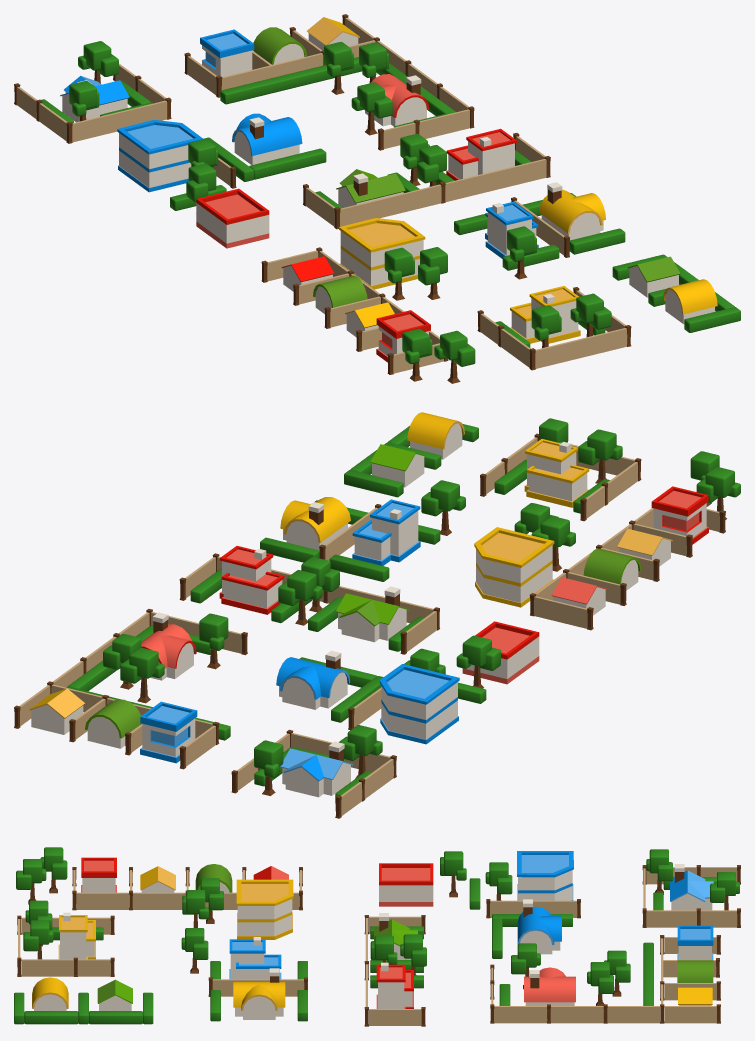
The model's file is Dashboard_Map__Deployment.fbx.
3 views of the same model, one above another, from view 1: azimuth 30°, elevation 25°; view 2: azimuth 150°, elevation 25°; view 3: azimuth 270°, elevation 25° (orthographic). The views are drawn at different scales.
Parts seen in each view (by area): view 1: Map-Shop-Lv2-B.001, Map-Shop-Lv2-Y.001, Map-Shop-Lv1.001, Map-House-R-Lv2.002, Map-House-R-Lv2.004, Map-House-S-Lv2-R.001, Map-House-S-Lv2-Y.001, Fence.010, Map-House-S-Lv1-B.001, Map-House-R-Lv2-R.001, Fence-grass.003, Map-House-T-Lv2-G.001 (+50 smaller); view 2: Map-Shop-Lv2-B.001, Map-Shop-Lv2-Y.001, Map-House-S-Lv2-Y.001, Map-House-S-Lv2-R.001, Map-House-S-Lv2-B.001, Map-House-R-Lv2.002, Map-House-T-Lv2-B.001, Map-House-T-Lv2-G.001, Map-House-R-Lv2.004, Map-House-S-Lv1-B.001, Map-Shop-Lv1.001, Map-House-S-Lv1-R.001 (+36 smaller); view 3: Map-Shop-Lv2-Y.001, Map-Shop-Lv2-B.001, Map-Shop-Lv1.001, Map-House-R-Lv2.004, Map-House-S-Lv2-B.001, Map-House-R-Lv2.002, Map-House-R-Lv2-R.001, Map-House-S-Lv2-R.001, Map-House-S-Lv2-Y.001, Map-House-T-Lv2-B.001, Map-House-S-Lv1-R.001, Map-House-S-Lv1-B.001 (+56 smaller).
Part boxes in pixels (x1,y1,x2,y2): Map-Shop-Lv2-B.001: (117,120,202,192); Map-Shop-Lv2-Y.001: (339,218,425,289); Map-Shop-Lv1.001: (196,188,269,248); Map-House-R-Lv2.002: (232,113,302,164); Map-House-R-Lv2.004: (539,182,605,240); Map-House-S-Lv2-R.001: (446,128,516,180); Map-House-S-Lv2-Y.001: (510,286,580,343); Fence.010: (66,97,171,143); Map-House-S-Lv1-B.001: (200,29,254,76); Map-House-R-Lv2-R.001: (365,74,429,126); Fence-grass.003: (220,57,362,104); Map-House-T-Lv2-G.001: (336,169,405,207); Map-Shop-Lv2-B.001: (379,664,459,744); Map-Shop-Lv2-Y.001: (474,527,554,607); Map-House-S-Lv2-Y.001: (524,439,589,507); Map-House-S-Lv2-R.001: (219,546,284,614); Map-House-S-Lv2-B.001: (352,499,420,565); Map-House-R-Lv2.002: (276,650,350,709); Map-House-T-Lv2-B.001: (280,741,353,797); Map-House-T-Lv2-G.001: (335,586,408,642); Map-House-R-Lv2.004: (280,497,350,550); Map-House-S-Lv1-B.001: (140,701,197,763); Map-Shop-Lv1.001: (462,621,539,684); Map-House-S-Lv1-R.001: (651,486,708,544); Map-Shop-Lv2-Y.001: (236,879,293,939); Map-Shop-Lv2-B.001: (517,851,573,900); Map-Shop-Lv1.001: (379,863,433,906); Map-House-R-Lv2.004: (233,968,285,1019); Map-House-S-Lv2-B.001: (229,937,281,979); Map-House-R-Lv2.002: (517,899,561,954); Map-House-R-Lv2-R.001: (524,967,575,1005); Map-House-S-Lv2-R.001: (376,962,413,1008); Map-House-S-Lv2-Y.001: (58,912,95,959); Map-House-T-Lv2-B.001: (670,864,713,910); Map-House-S-Lv1-R.001: (81,857,116,892); Map-House-S-Lv1-B.001: (677,925,713,959).
Bounding box in the file's own units: 10.47 × 1.38 × 22.39.
